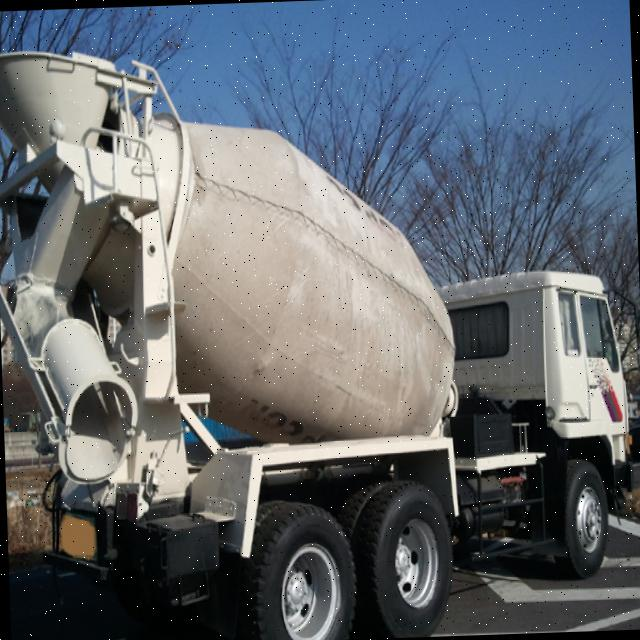Mixer Truck: (0, 30, 635, 640)
